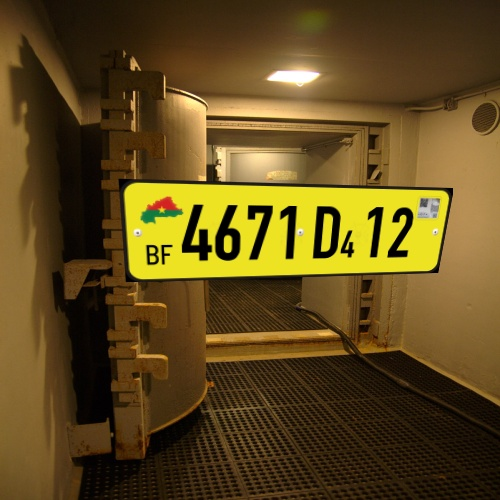plate: (103, 164, 466, 291)
